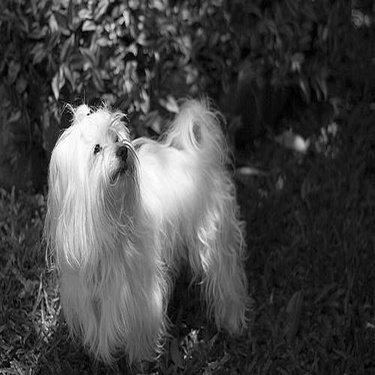dog: (24, 93, 255, 370)
